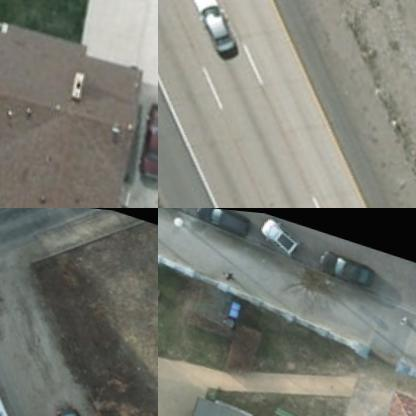car: (181, 0, 243, 59), (316, 242, 376, 286), (185, 208, 256, 244), (129, 90, 157, 177), (254, 211, 300, 256), (43, 400, 100, 415)
